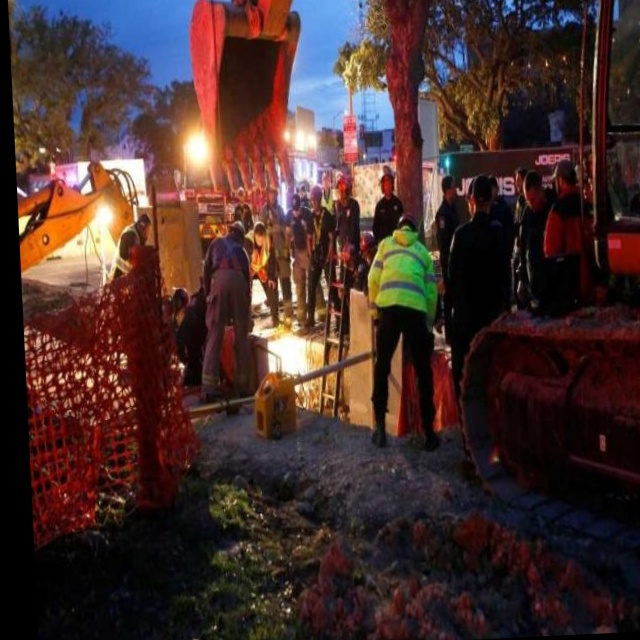Con_Chaleco: (374, 229, 438, 325)
